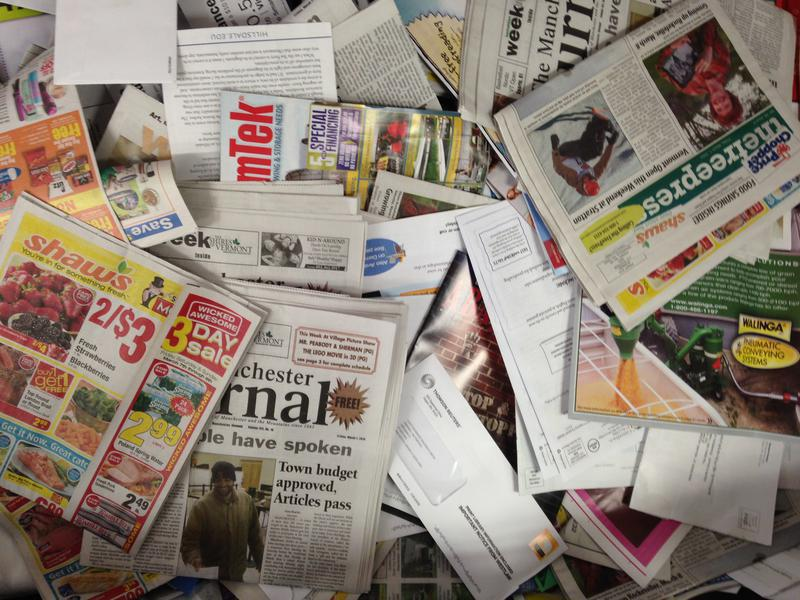paper: (488, 2, 800, 337), (3, 186, 273, 559), (374, 354, 573, 600), (210, 79, 488, 238), (567, 253, 800, 437), (620, 428, 787, 552), (45, 1, 184, 94)
